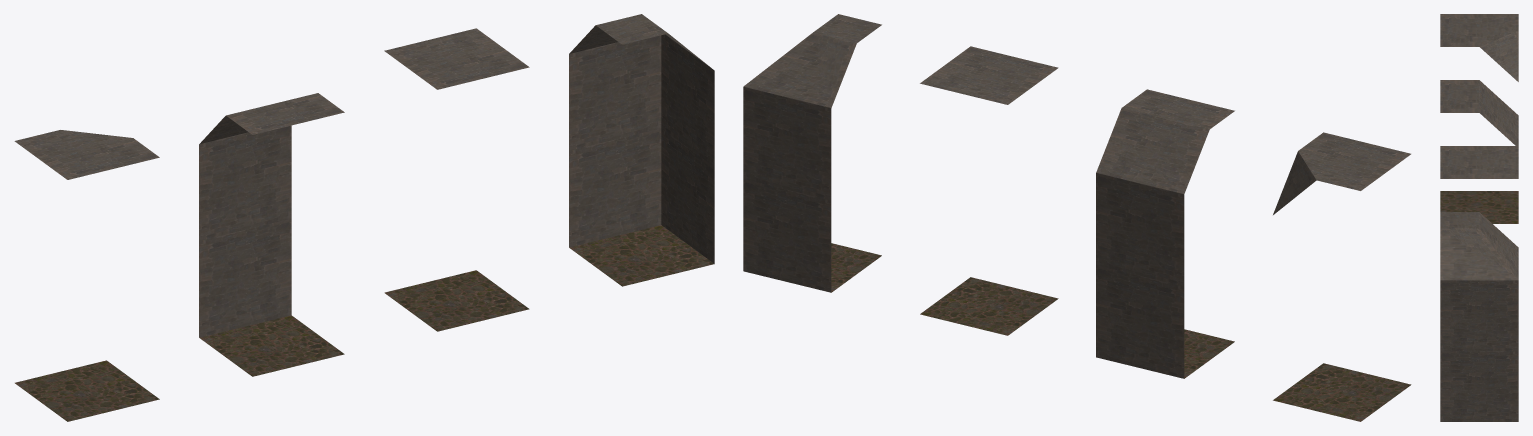
File: Dungeon.glb
3 views of the same model, side by side, from view 1: azimuth 30°, elevation 25°; view 2: azimuth 150°, elevation 25°; view 3: azimuth 270°, elevation 25° (orthographic). The views are drawn at different scales.
Visible parts, largest first — view 1: corner_in-col, wall-col, floor-col, corner_out-col; view 2: wall-col, corner_in-col, corner_out-col, floor-col; view 3: corner_in-col, corner_out-col, wall-col, floor-col.
Boxes of the visible parts, box(x1,y1,x2,y2) form: corner_in-col: box(569, 14, 714, 286); wall-col: box(199, 93, 344, 376); floor-col: box(384, 28, 529, 331); corner_out-col: box(14, 130, 159, 421); wall-col: box(1096, 89, 1234, 378); corner_in-col: box(743, 14, 881, 292); corner_out-col: box(1273, 132, 1411, 421); floor-col: box(920, 46, 1058, 335); corner_in-col: box(1440, 212, 1518, 421); corner_out-col: box(1440, 14, 1518, 223); wall-col: box(1440, 80, 1518, 145); floor-col: box(1440, 146, 1518, 178).
Bounding box in the file's own units: 7 × 2.5 × 1.
1 material, 1 textured.
